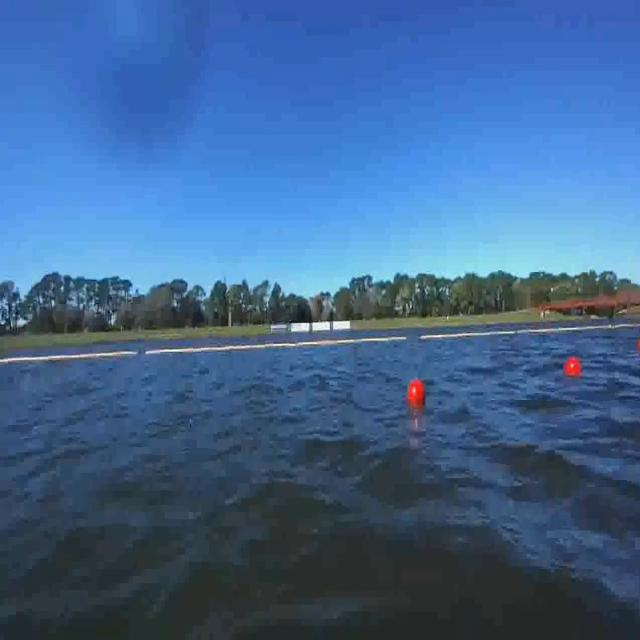red-buoy: (410, 380, 426, 406), (565, 358, 582, 378)
